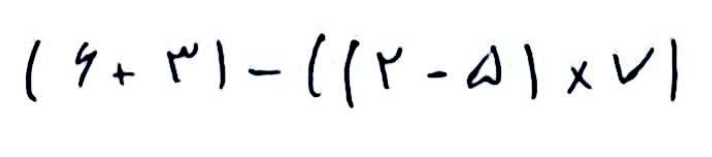character: (466, 44, 502, 89), (612, 47, 655, 84), (167, 42, 199, 83), (307, 31, 326, 98), (376, 46, 404, 91), (345, 38, 361, 107), (25, 39, 42, 103), (75, 40, 97, 87), (663, 40, 679, 101), (523, 43, 539, 101), (566, 60, 590, 95), (215, 40, 227, 88), (112, 63, 135, 87), (246, 68, 293, 78), (425, 71, 449, 87)
